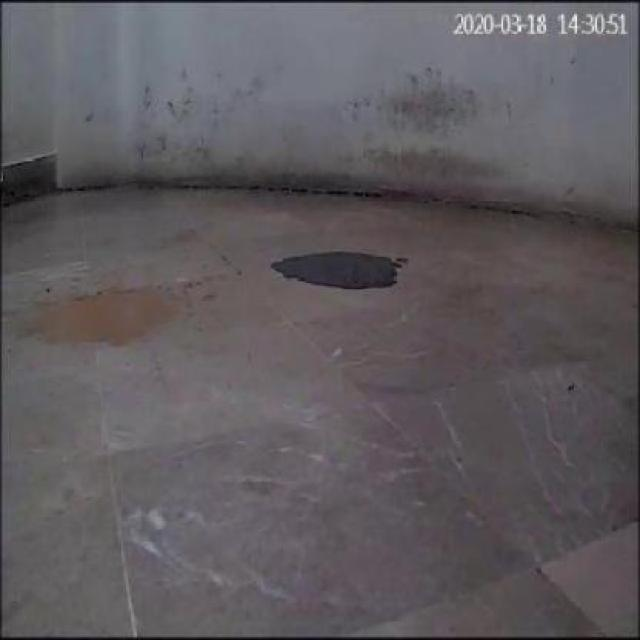spillage: (270, 250, 406, 289)
